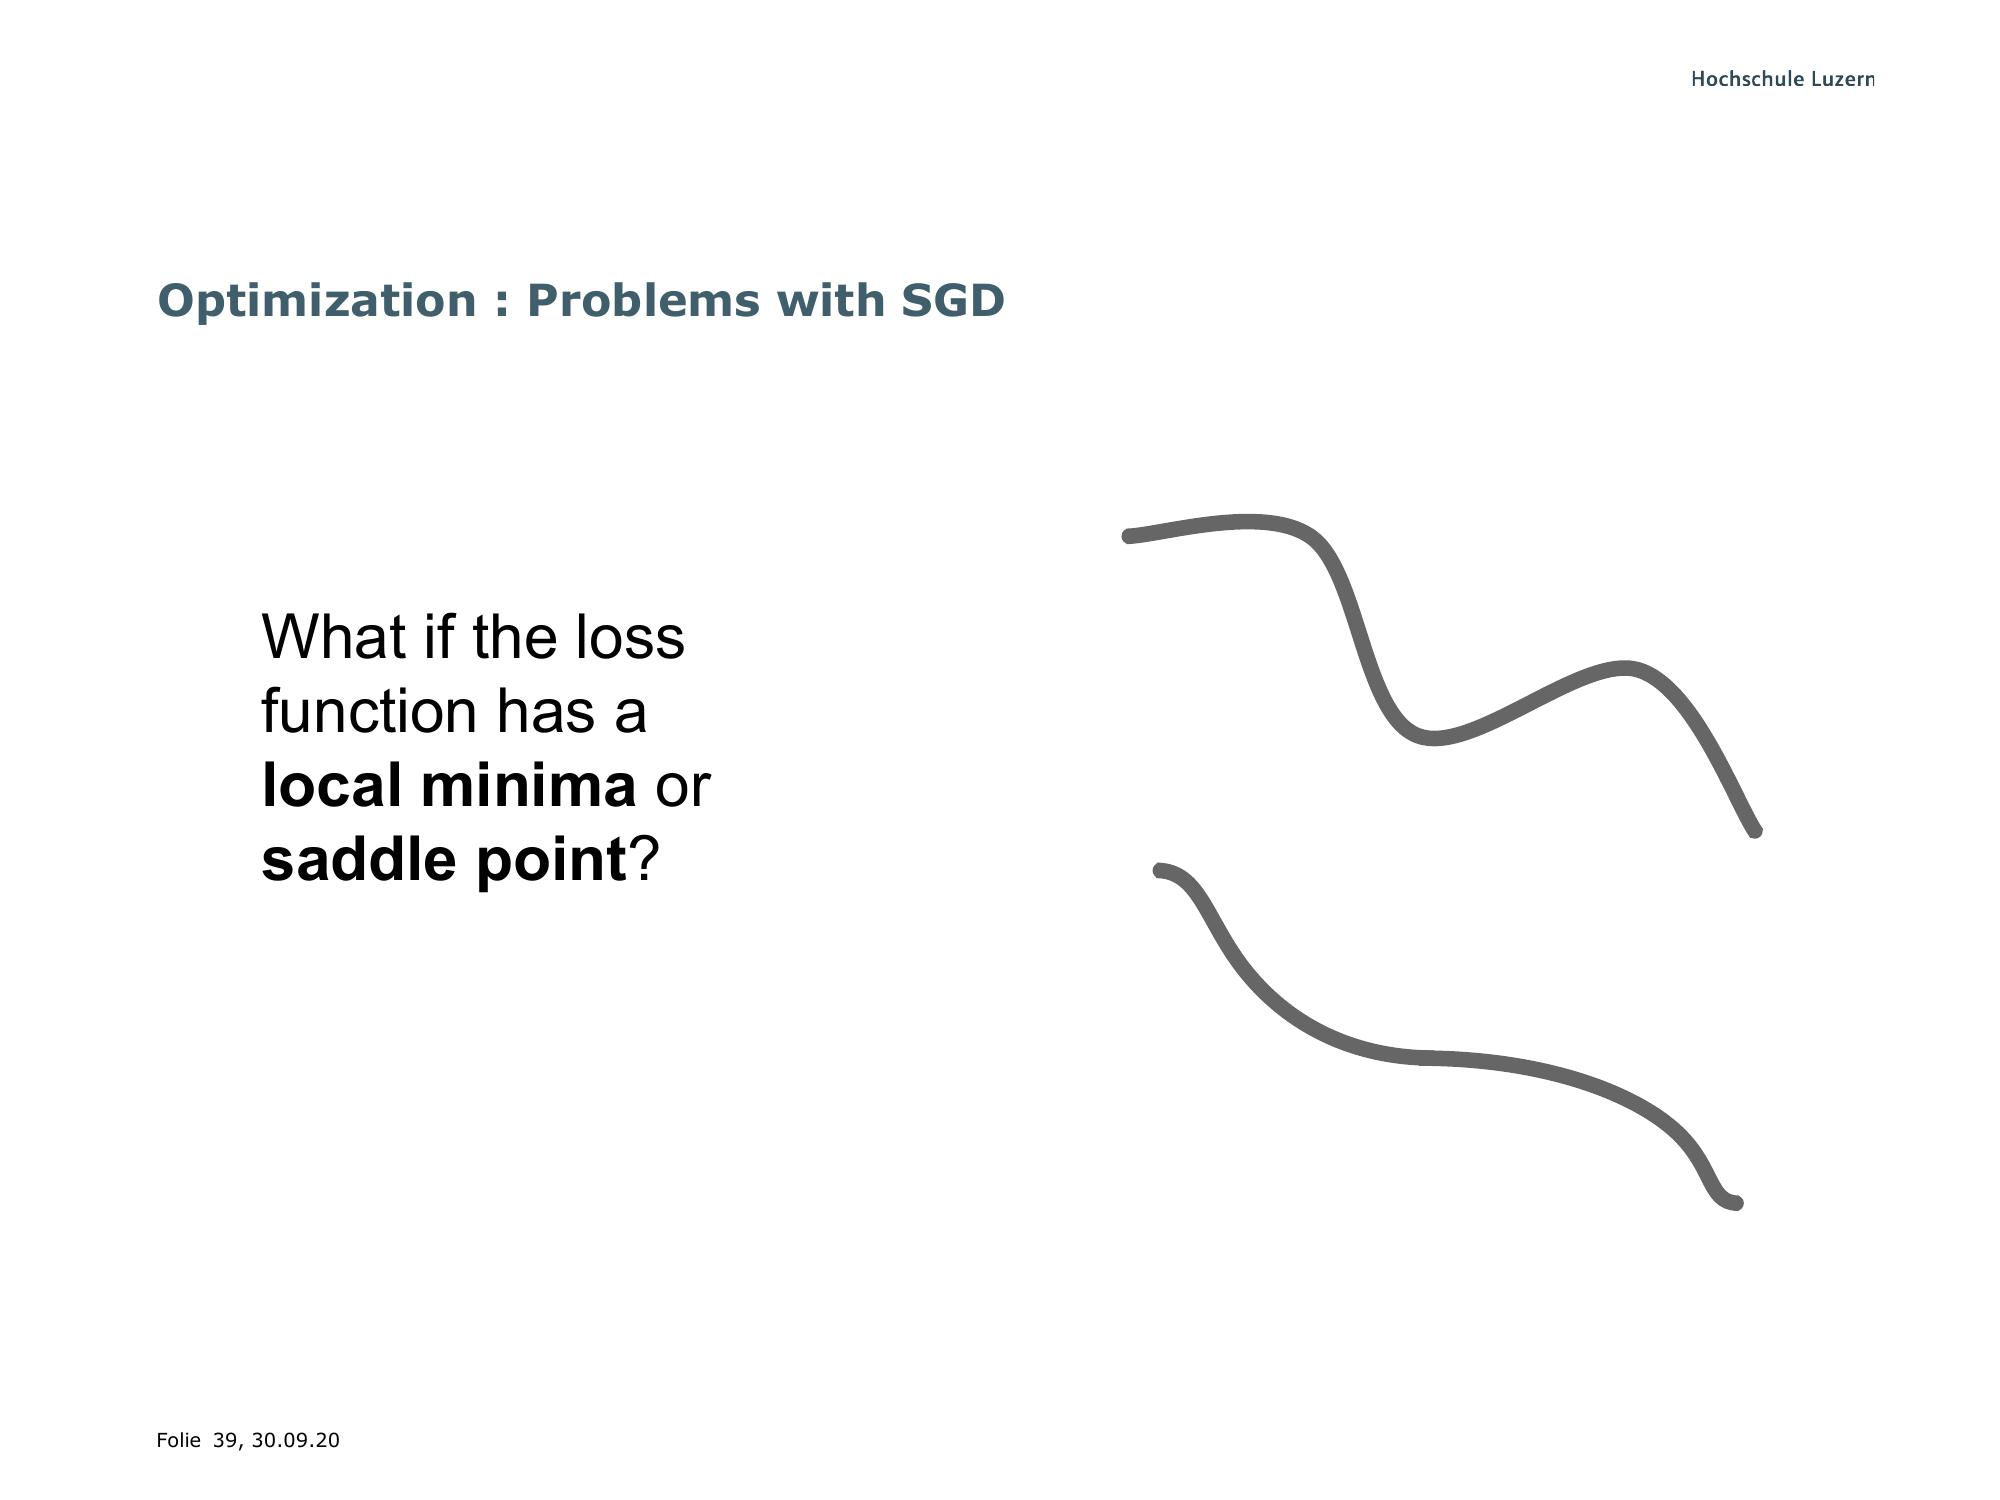Title: (143, 273, 1027, 328)
